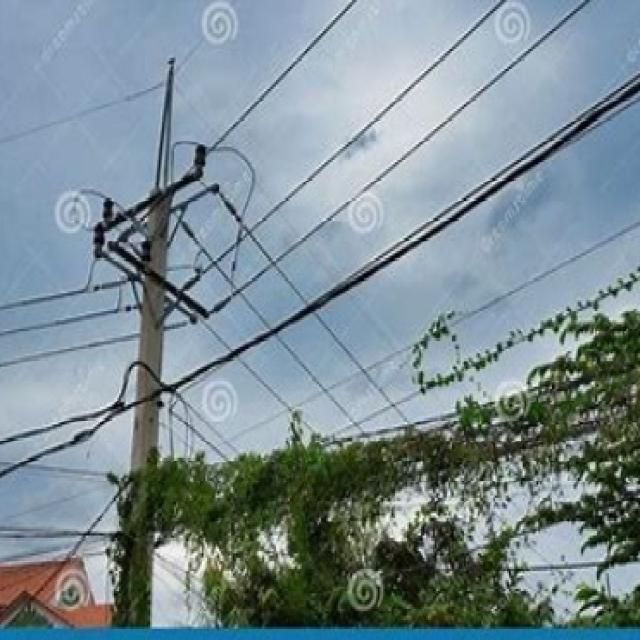critical vegetation: (128, 410, 616, 628)
